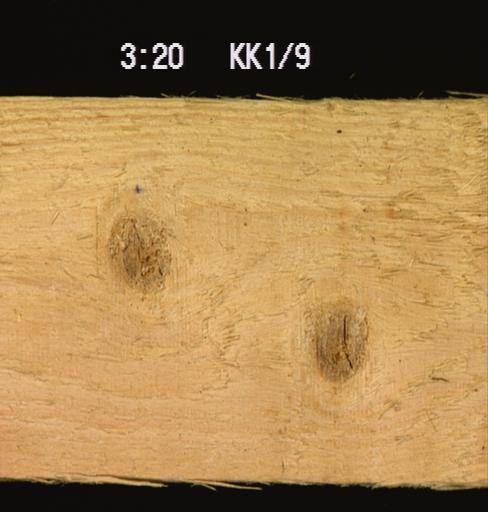sound_knot: (96, 204, 175, 302), (308, 296, 368, 386)
split: (60, 461, 138, 481)
